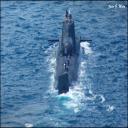submarine: (49, 8, 94, 98)
